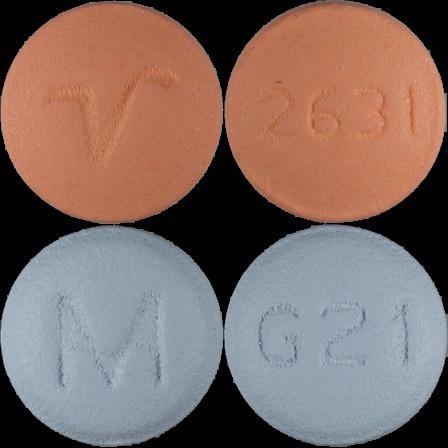0615-7528: (0, 0, 224, 224)
